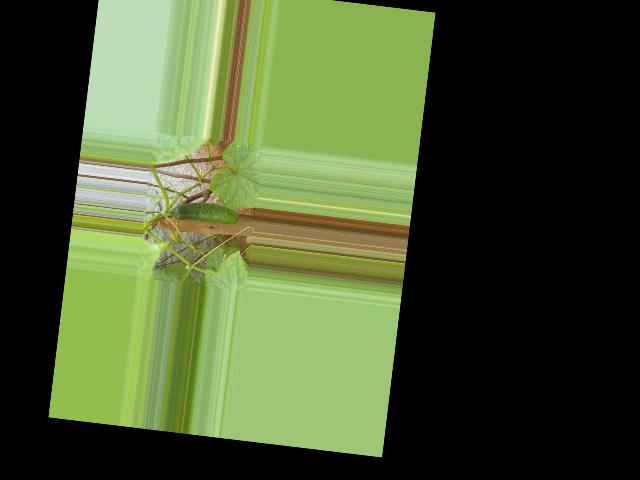cucumber: (172, 199, 240, 227)
